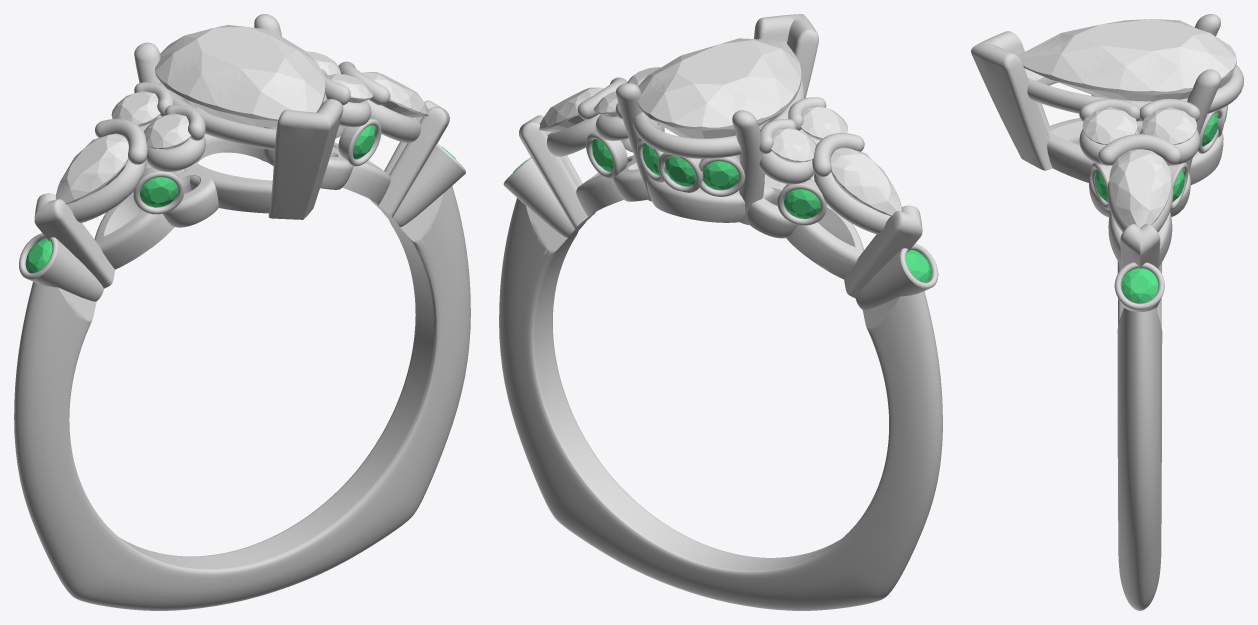
Rendered from ChrisVlavendertest.glb.
3 views of the same model, side by side, from view 1: azimuth 30°, elevation 25°; view 2: azimuth 150°, elevation 25°; view 3: azimuth 270°, elevation 25° (orthographic). The views are drawn at different scales.
Parts seen in each view (by area): view 1: v6 PT for 3d model, Chris dia for 3d model.001, Chris dia for 3d model.002, Chris dia for 3d model.005, Chris dia for 3d model, Chris dia for 3d model.006, v6 sapphires for 3d model.006, Chris dia for 3d model.003, v6 sapphires for 3d model.001; view 2: v6 PT for 3d model, Chris dia for 3d model.001, Chris dia for 3d model.002, Chris dia for 3d model, Chris dia for 3d model.006, Chris dia for 3d model.005, v6 sapphires for 3d model.008, v6 sapphires for 3d model.003, v6 sapphires for 3d model.004, v6 sapphires for 3d model.001; view 3: v6 PT for 3d model, Chris dia for 3d model.001, Chris dia for 3d model, Chris dia for 3d model.003, Chris dia for 3d model.004, v6 sapphires for 3d model.
Boxes of the visible parts, x1,y1,x2,y2 form: v6 PT for 3d model: (14,14,470,610); Chris dia for 3d model.001: (155,25,325,127); Chris dia for 3d model.002: (56,133,128,204); Chris dia for 3d model.005: (144,113,191,149); Chris dia for 3d model: (362,72,428,117); Chris dia for 3d model.006: (111,91,160,126); v6 sapphires for 3d model.006: (140,177,177,207); Chris dia for 3d model.003: (326,73,373,102); v6 sapphires for 3d model.001: (25,239,52,273); v6 PT for 3d model: (499,14,942,610); Chris dia for 3d model.001: (637,38,801,138); Chris dia for 3d model.002: (831,147,901,216); Chris dia for 3d model: (539,87,603,132); Chris dia for 3d model.006: (770,127,816,162); Chris dia for 3d model.005: (800,105,847,139); v6 sapphires for 3d model.008: (784,189,820,218); v6 sapphires for 3d model.003: (702,161,738,190); v6 sapphires for 3d model.004: (665,156,695,186); v6 sapphires for 3d model.001: (905,250,931,282); v6 PT for 3d model: (971,14,1243,610); Chris dia for 3d model.001: (1018,19,1236,101); Chris dia for 3d model: (1109,149,1171,227); Chris dia for 3d model.003: (1082,107,1137,144); Chris dia for 3d model.004: (1142,107,1196,144); v6 sapphires for 3d model: (1121,268,1158,303).
Size of the model in its own units: 20.5 by 23.8 by 10.98.
